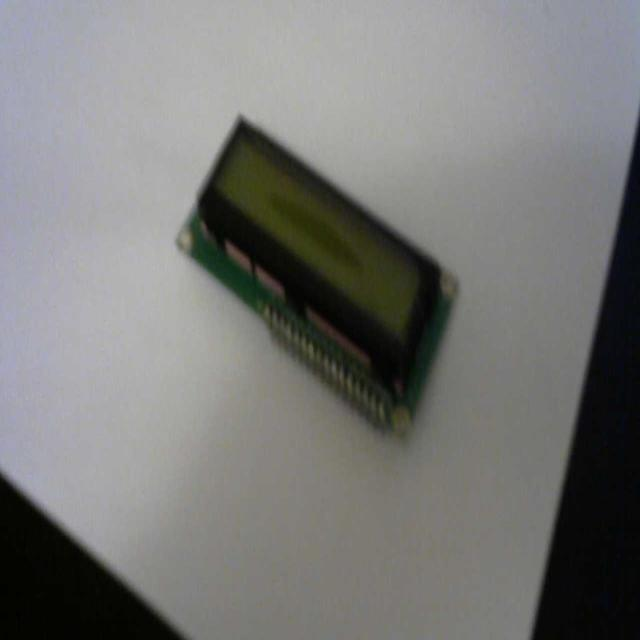lcd: (167, 88, 465, 454)
